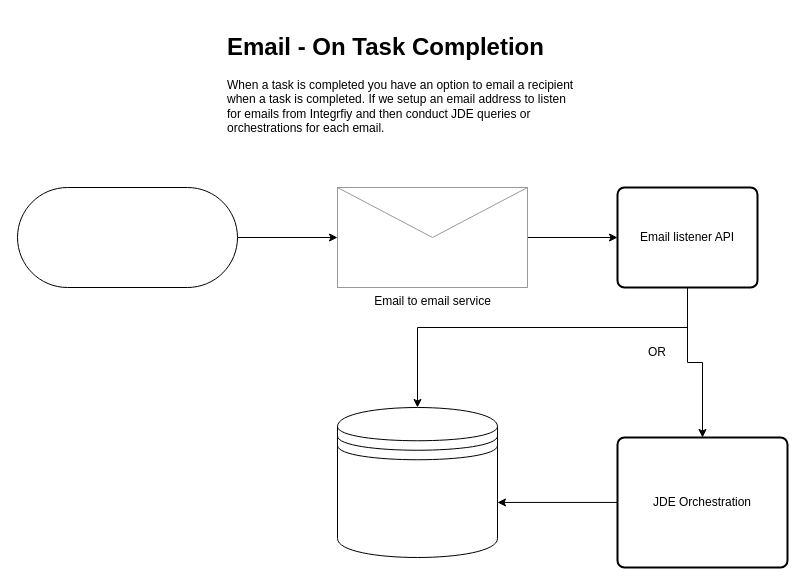
This 806x585 diagram has some shape labels left out. Here are the shapes that lost their labels. From the top down, the centre of each, then its label:
point 127,237: Task Completed
point 417,482: Oracle JDE DB
